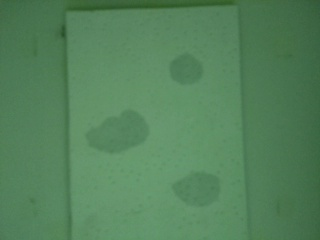Water_detected: (96, 112, 142, 162), (174, 56, 203, 87), (183, 172, 217, 195)
